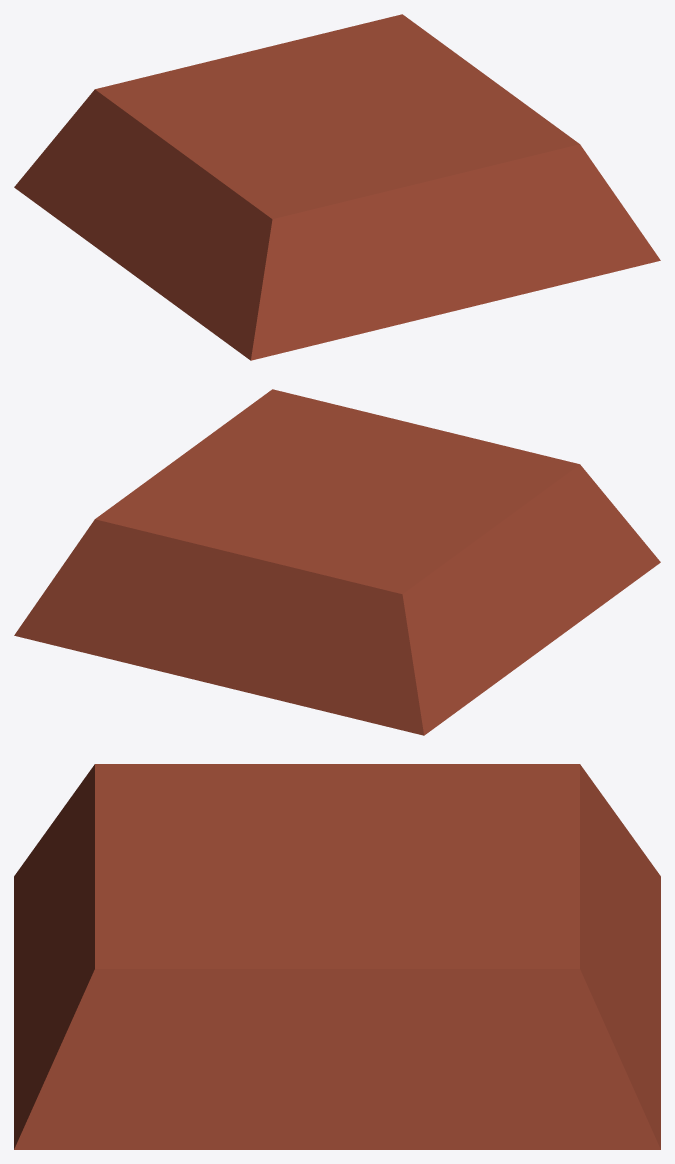
File: hound.gltf
3 views of the same model, one above another, from view 1: azimuth 30°, elevation 25°; view 2: azimuth 150°, elevation 25°; view 3: azimuth 270°, elevation 25° (orthographic). The views are drawn at different scales.
Visible parts, largest first — view 1: Hound Body; view 2: Hound Body; view 3: Hound Body.
Boxes of the visible parts, x1=… form: Hound Body: x1=14, y1=14, x2=660, y2=360; Hound Body: x1=14, y1=389, x2=660, y2=735; Hound Body: x1=14, y1=764, x2=660, y2=1149.
Bounding box in the file's own units: 2 × 0.5 × 2.
